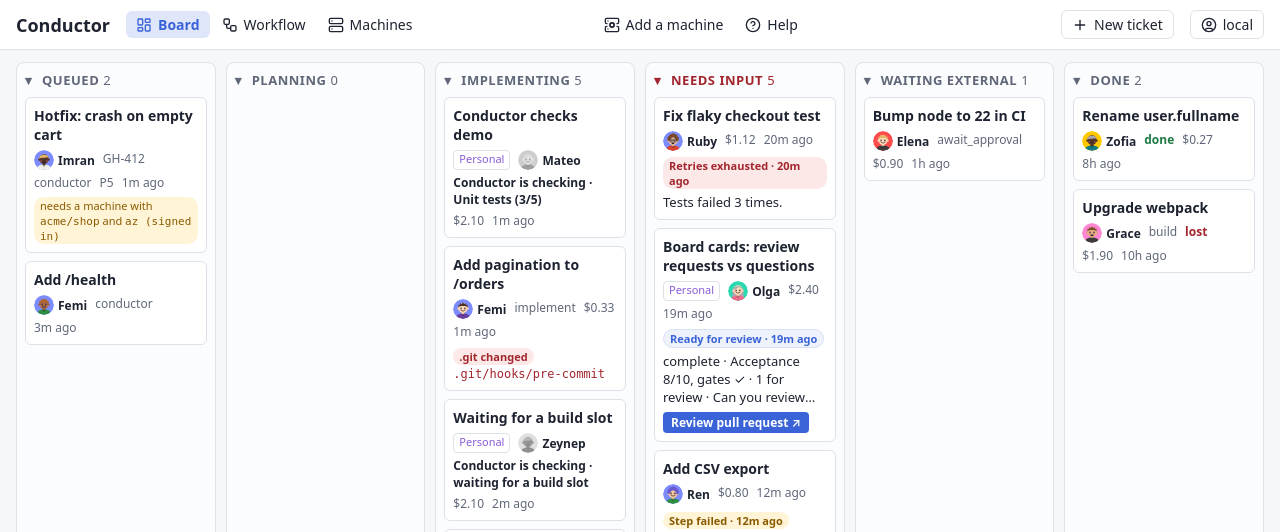
it: Conductor is running checks (UX-5) › a session outside a step shows no banner
Click the button "Add pagination to /orders" at point(535, 274), box left=453, top=255, right=617, bottom=293
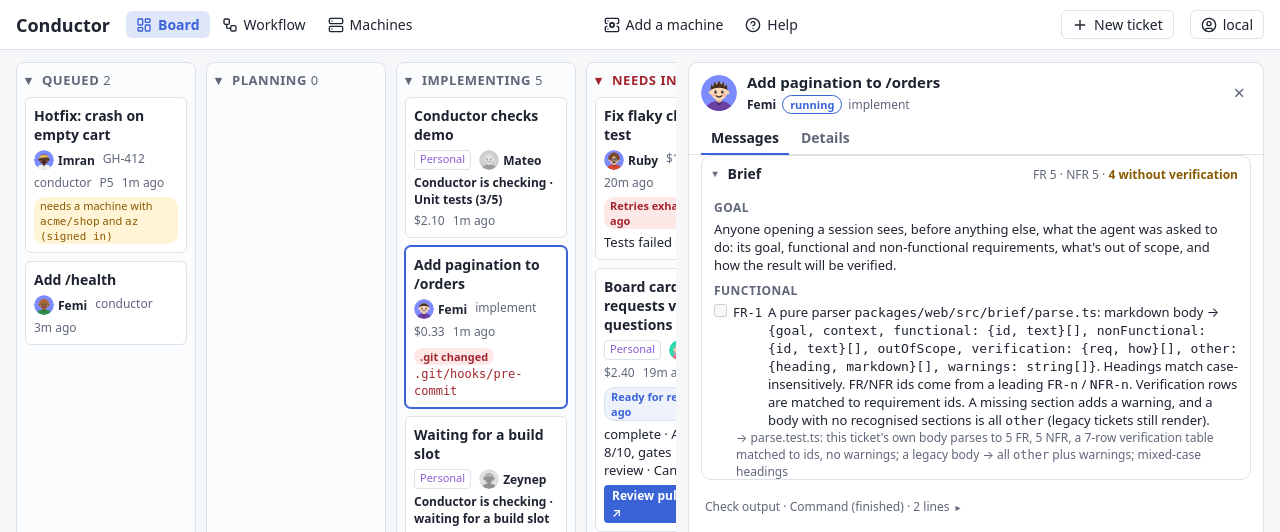
Check: the element showing "Check output · Command (finished) · 2 lines ▸" is shown, box left=703, top=498, right=1249, bottom=515
